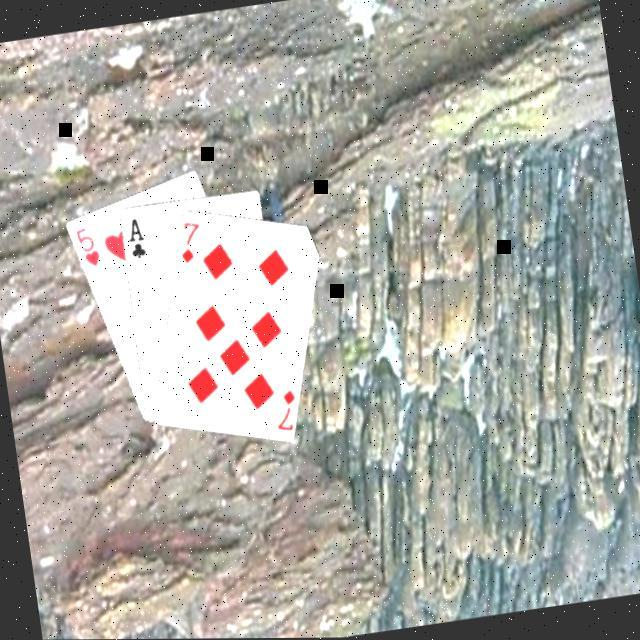5H: (73, 224, 105, 272)
7D: (174, 218, 208, 268), (269, 386, 303, 436)
AC: (122, 214, 150, 264)
